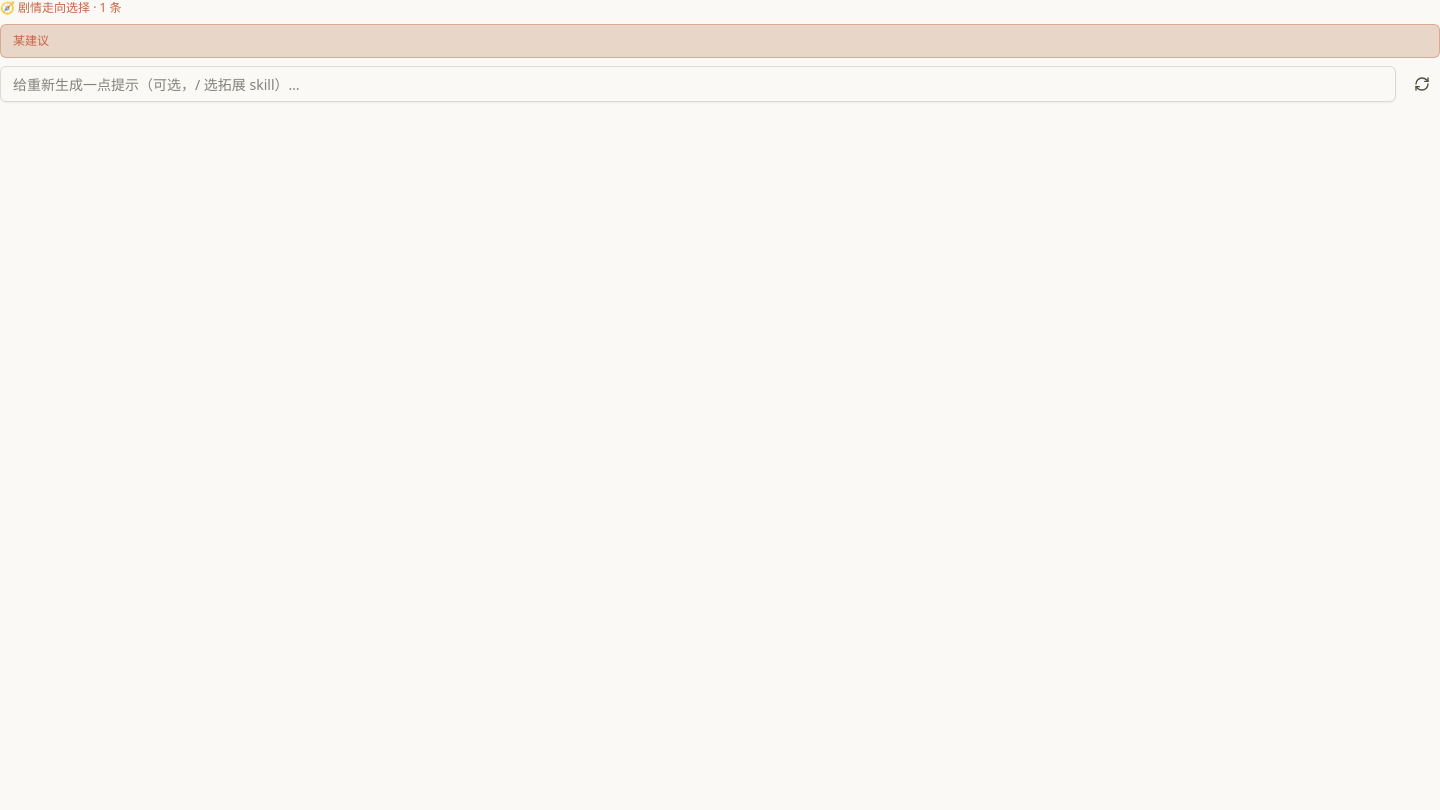
SuggestionsBubble regenerate › filters slash menu by typed prefix
Type "/example-a" into the field with placeholder "给重新生成一点提示（可选，/ 选拓展 skill）…" at (698, 84), box [0,66,1396,102]
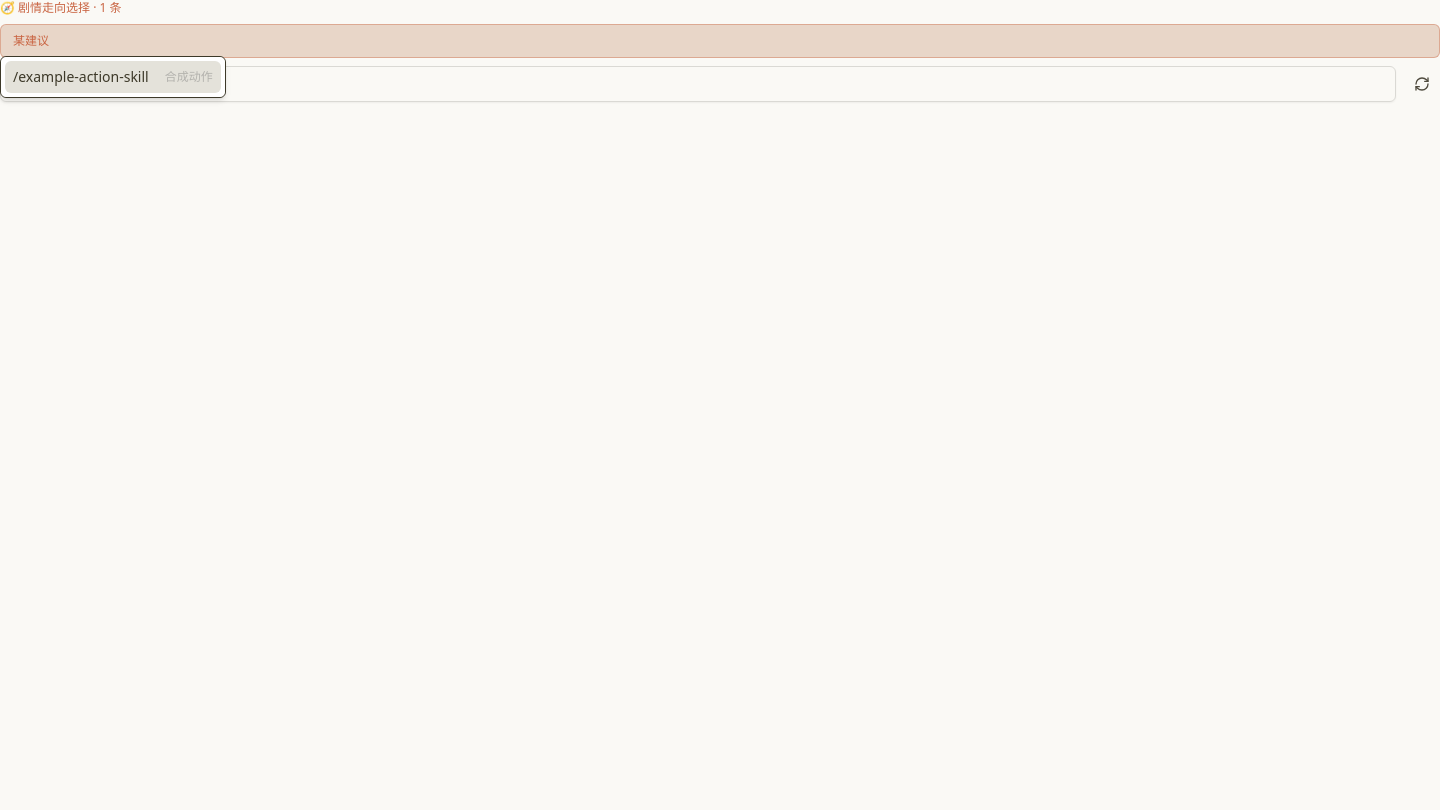
Now the text "/example-action-skill" is shown, box [13,67,149,87]
